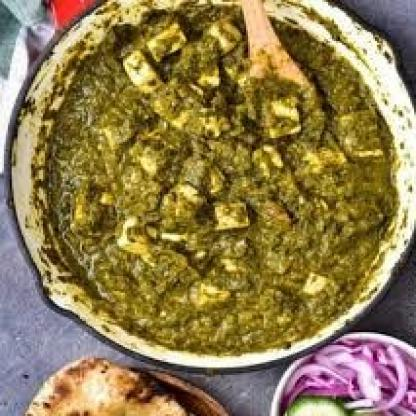palak_paneer: (43, 2, 397, 357)
